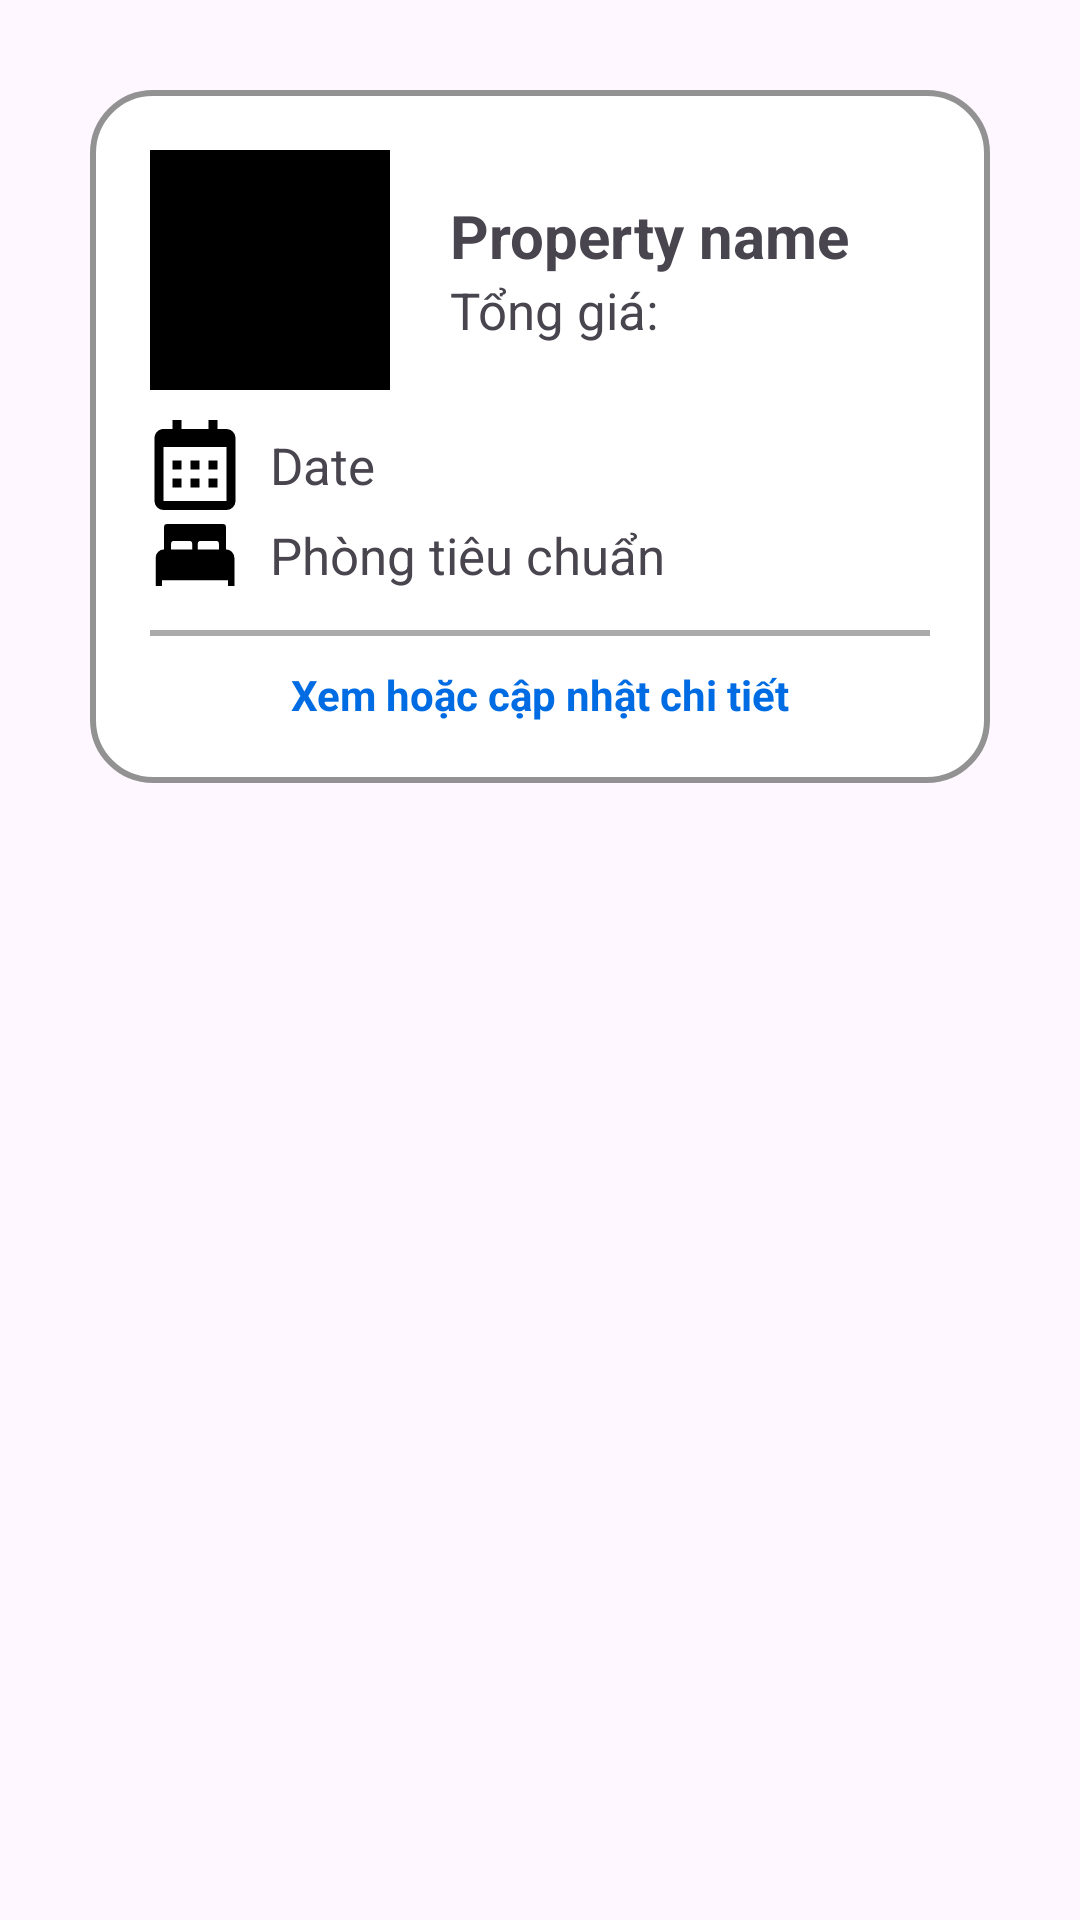

Named icons in this screenshot (1080px×1920px) and their bounding boxes, [x1=x1, y1=y1, x2=x2, y2=y2]:
bed: [x1=155, y1=524, x2=235, y2=586]
calendar: [x1=154, y1=420, x2=236, y2=510]
